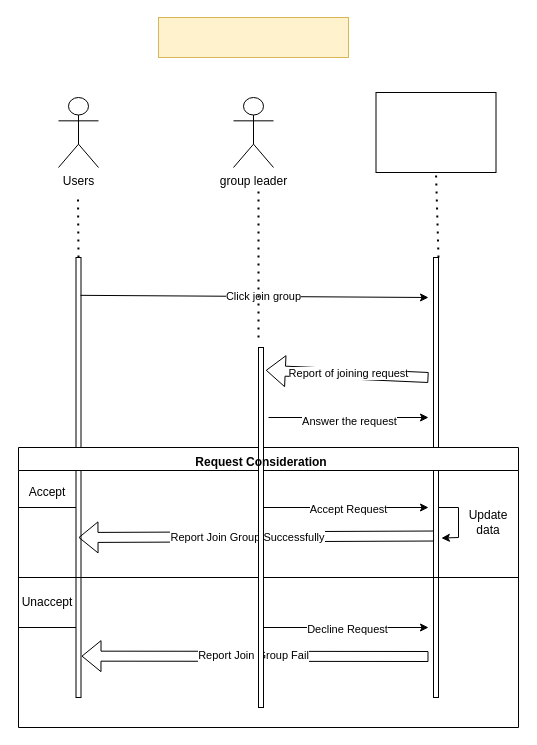
This 537x745 diagram has some shape labels left out. Each missing label, with the box of its shape:
:System: (375, 92, 496, 172)
Join Private Group (For Users): (158, 16, 348, 58)
